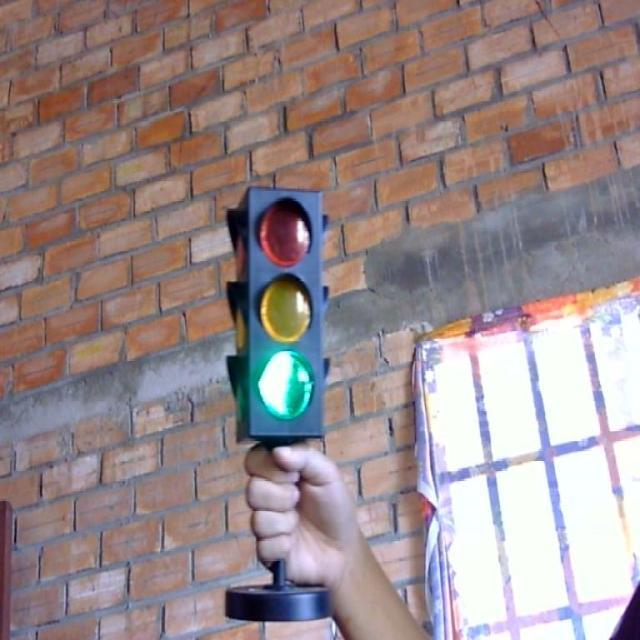green light: (254, 348, 322, 428)
